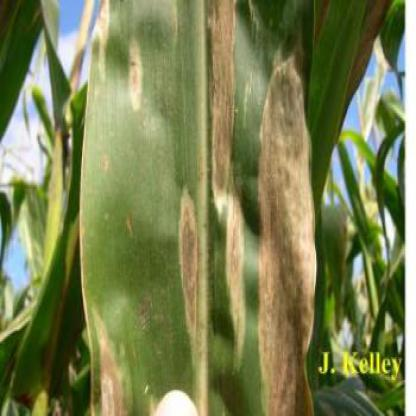Corn leaf blight: (84, 2, 310, 388)
